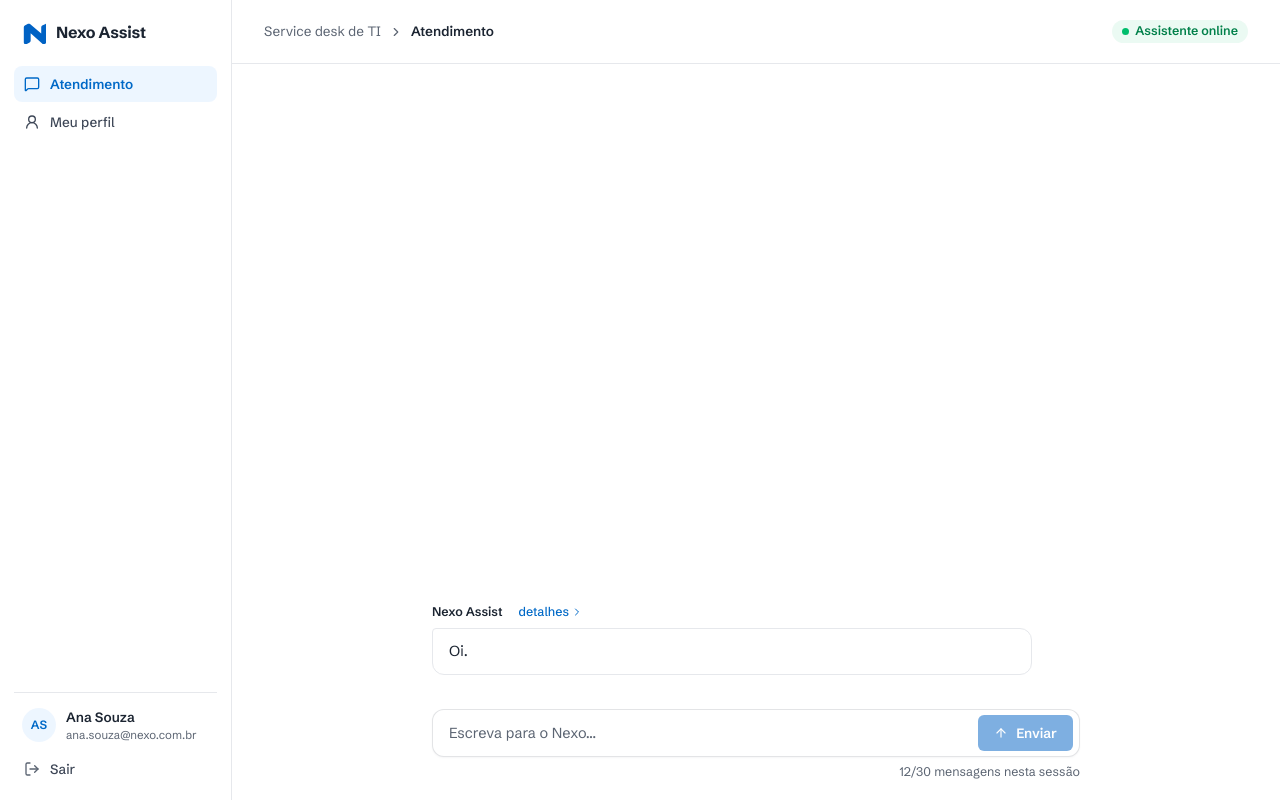
Test case: tela do chat (tela 2) › 10.6: no celular, o detalhe sobe como folha (diálogo) sobre a conversa
The width and height of the screenshot is (1280, 800).
Click the button with aria-label "detalhes da decisão" at (551, 612), box [514,600,587,624]
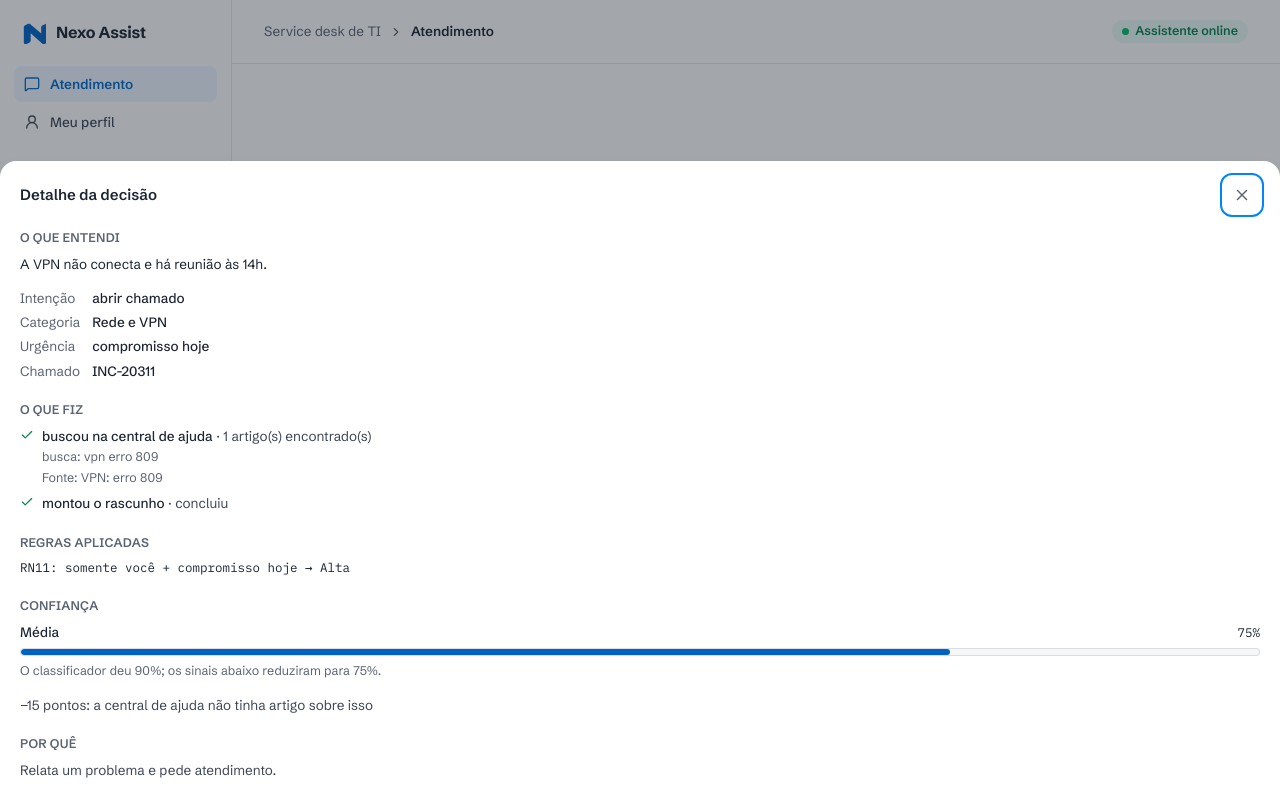
Expected: the dialog "Detalhe da decisão" is shown
